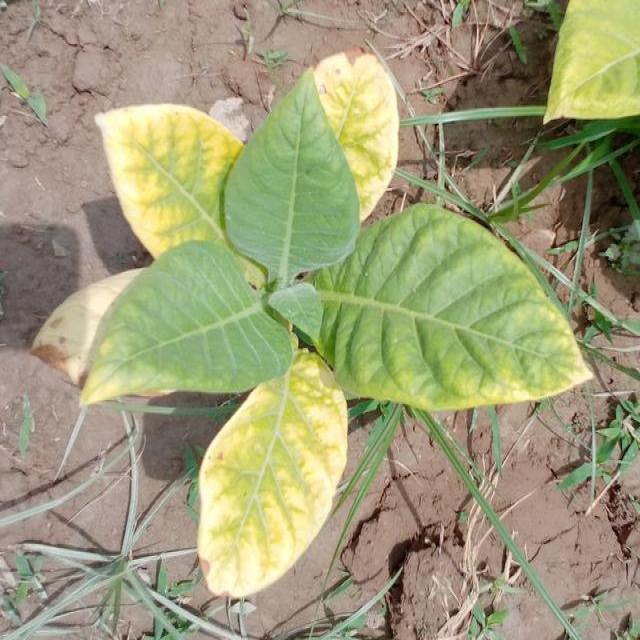crop: (38, 51, 590, 583)
